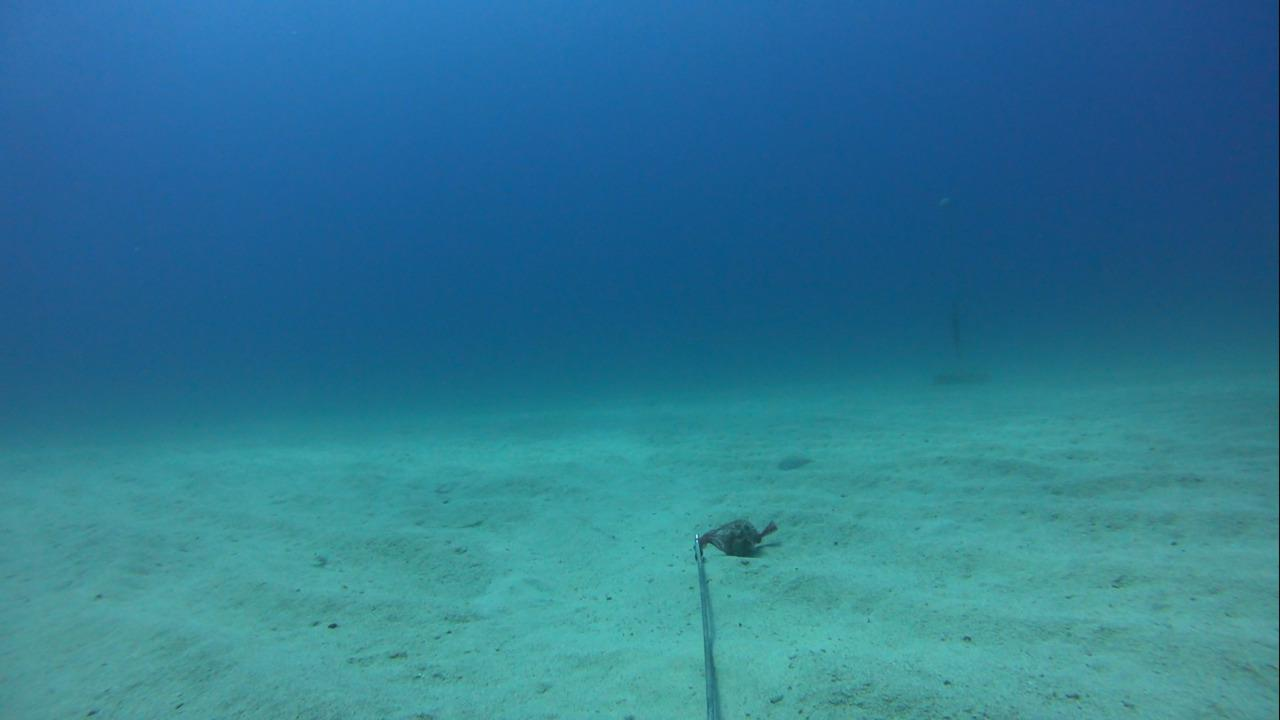raor: (763, 450, 819, 472)
